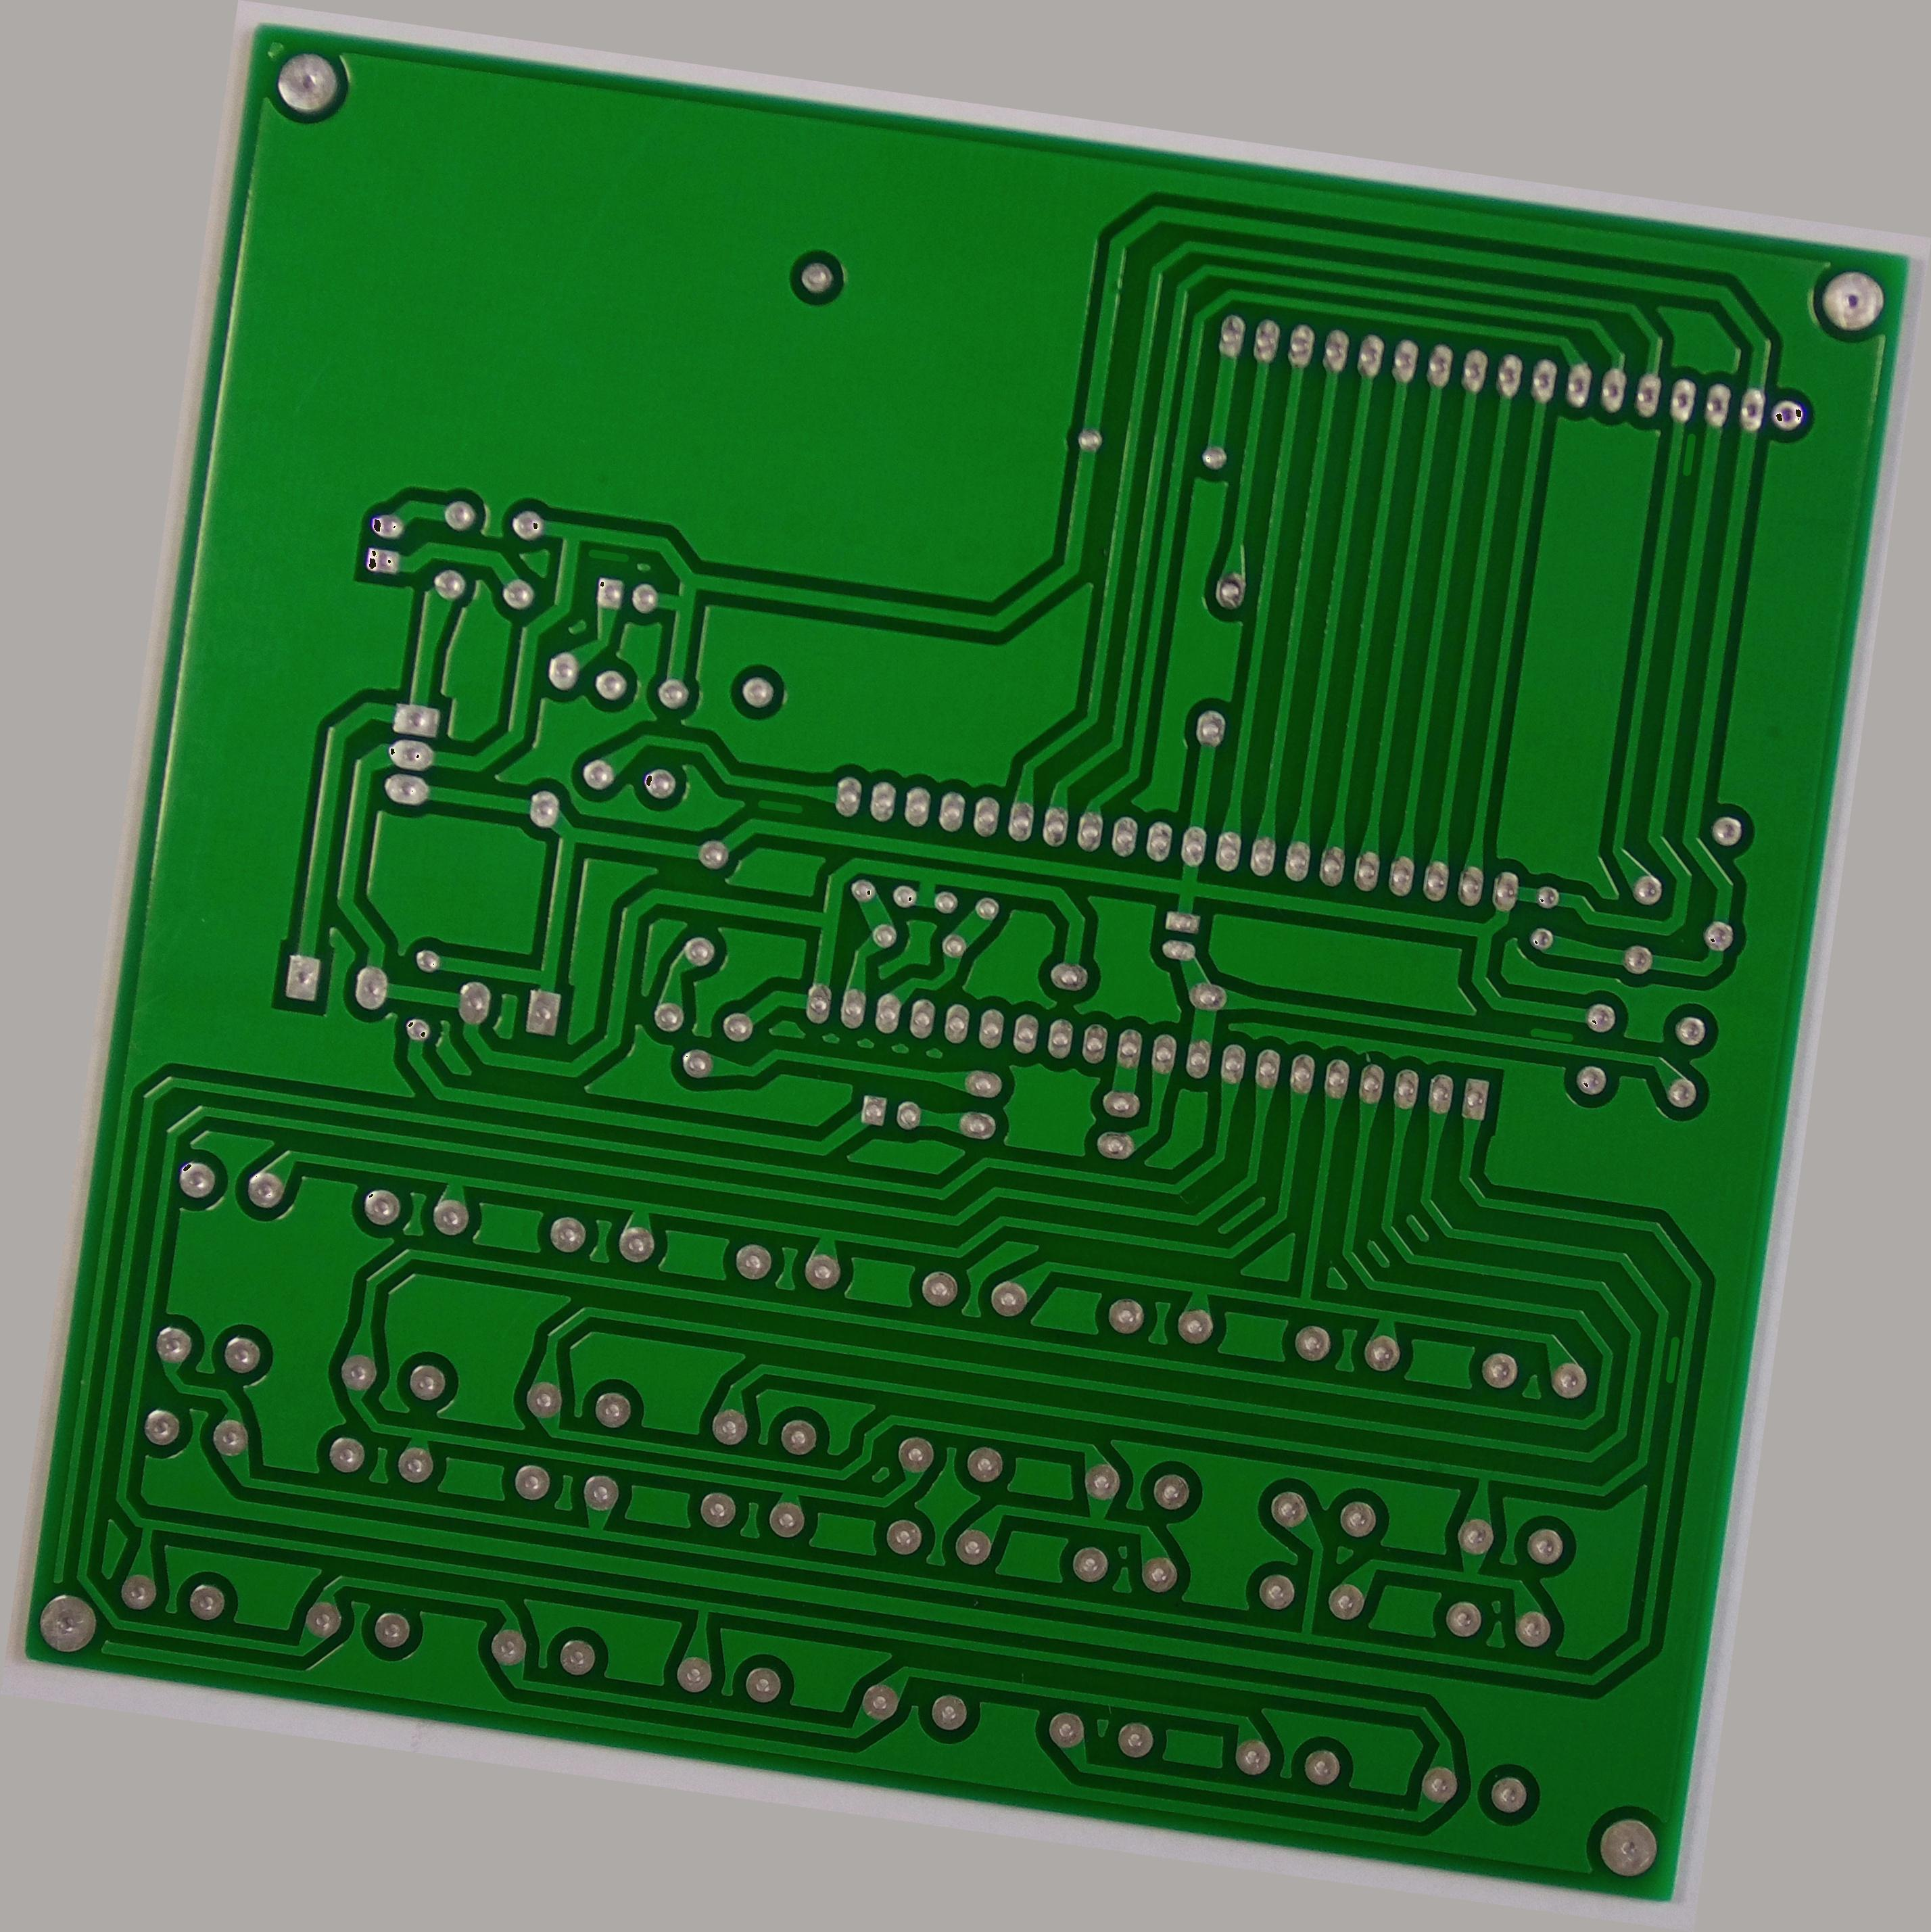spurious_copper: (573, 529, 644, 577), (741, 782, 813, 828), (1519, 1014, 1584, 1049), (1653, 1329, 1687, 1387), (1671, 423, 1706, 478)
